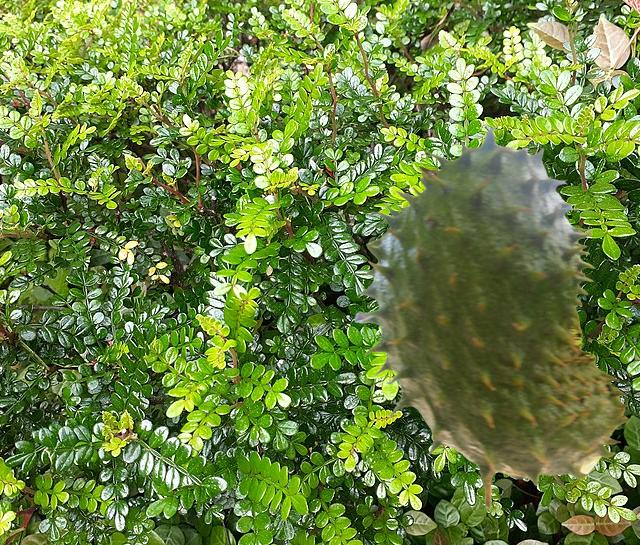guyabano: (354, 126, 629, 510)
